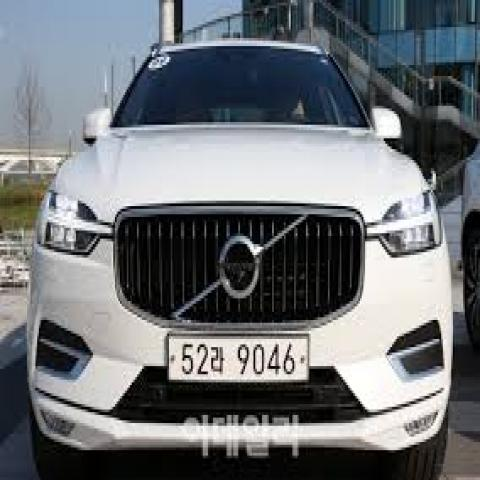LP: (159, 328, 315, 387)
